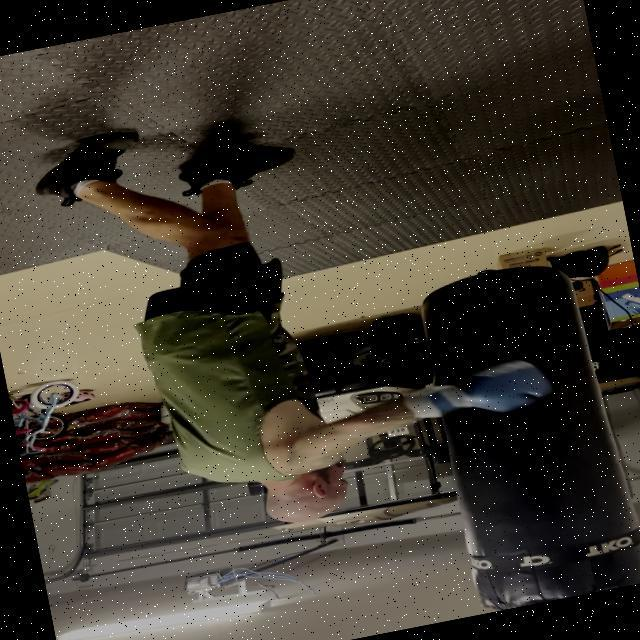bag: (406, 250, 640, 617)
hook: (131, 323, 588, 568)
